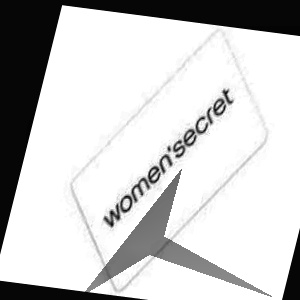women_secret: (145, 56, 300, 130)
